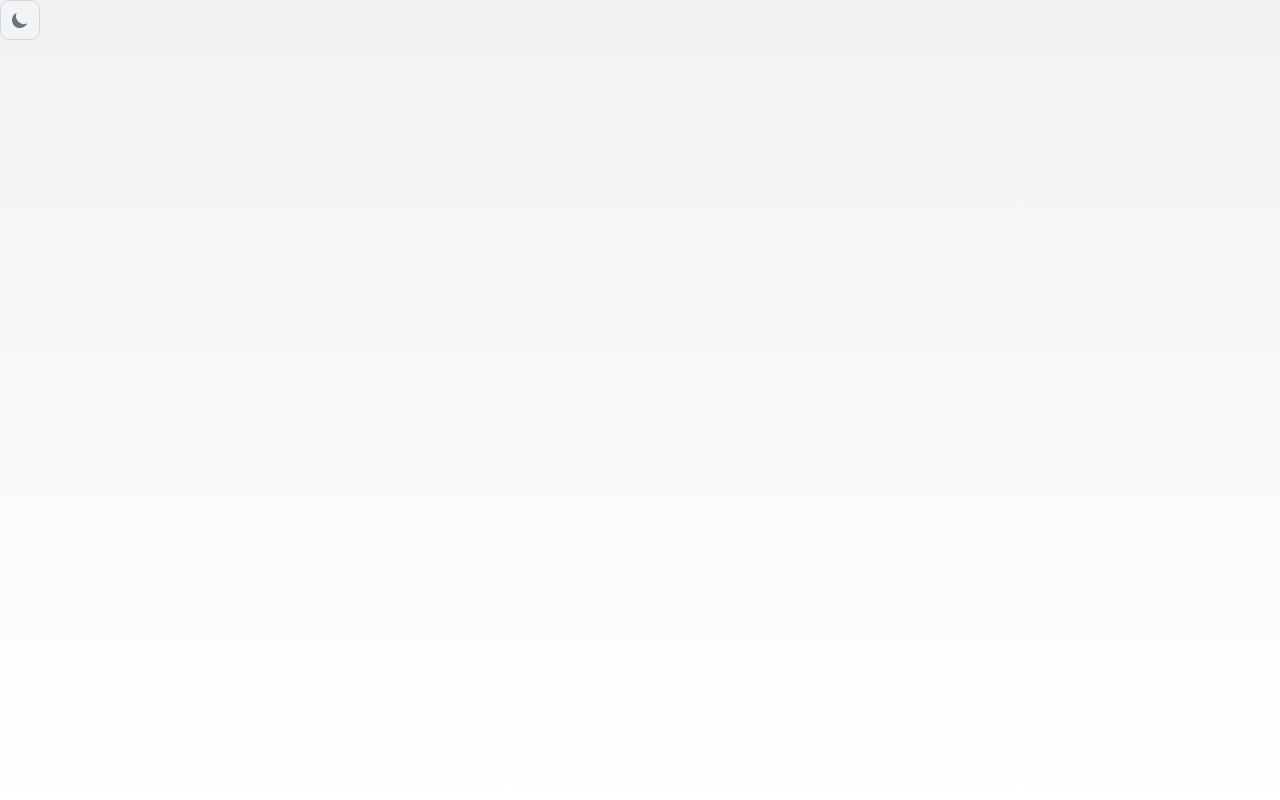
ThemeToggle › updates aria-pressed after toggling
Click the button named "Dark mode". click: (20, 20)
box: [0,0,40,40]
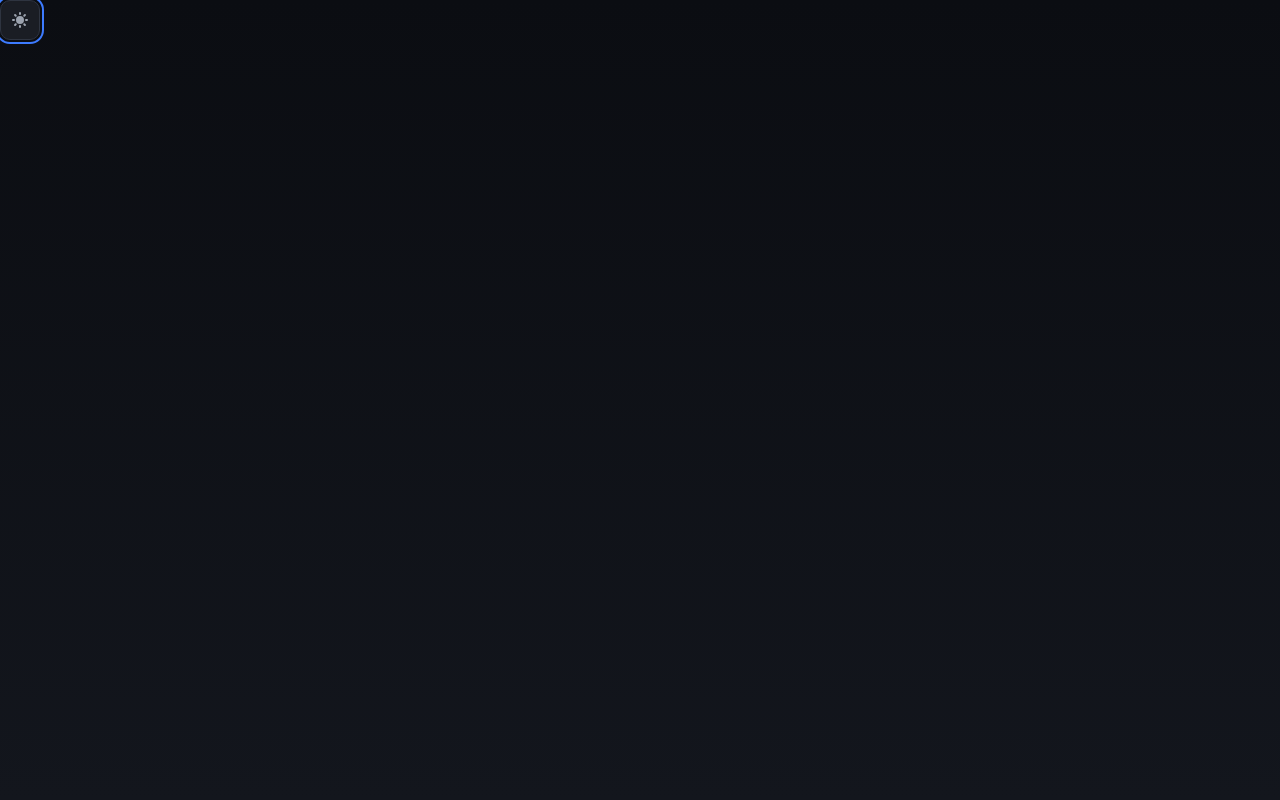
expect the button named "Dark mode" is pressed: met, box [0,0,40,40]
